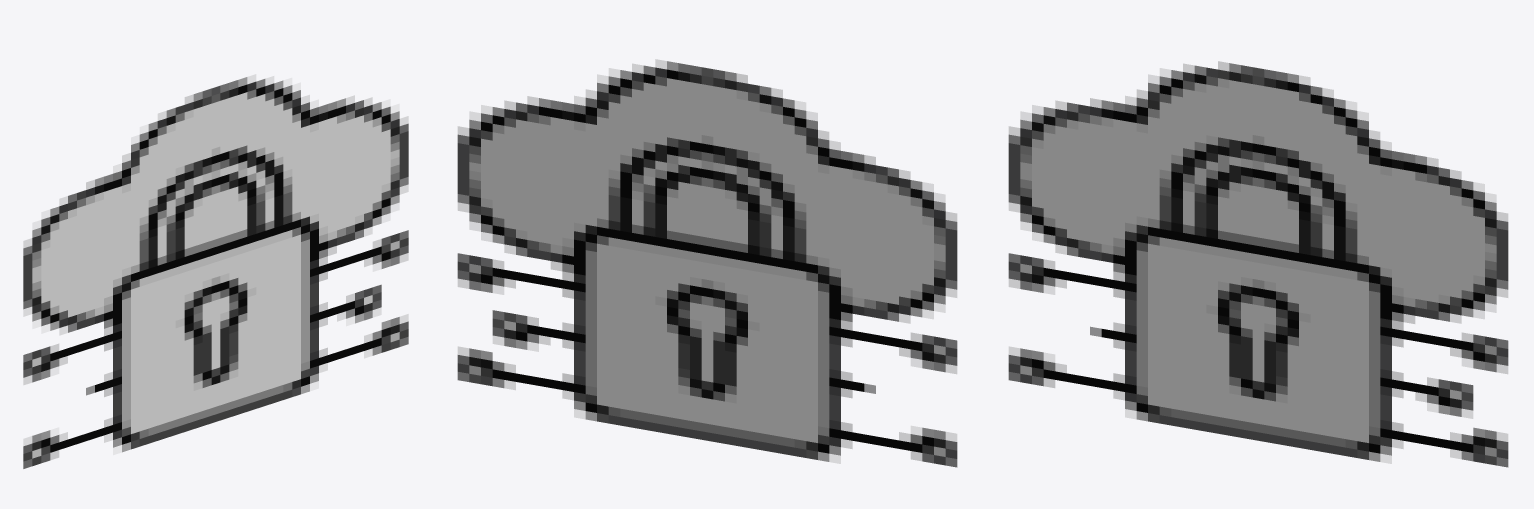
File: secops.glb
The picture shows the model from 3 angles, left to right: view 1: azimuth 30°, elevation 25°; view 2: azimuth 150°, elevation 25°; view 3: azimuth 330°, elevation 25°; orthographic projection. The views are drawn at different scales.
Visible parts, largest first — view 1: mesh_id35; view 2: mesh_id35; view 3: mesh_id35.
Part boxes in pixels (left/top/right/bottom): mesh_id35: left=23, top=74, right=408, bottom=468; mesh_id35: left=457, top=59, right=957, bottom=467; mesh_id35: left=1008, top=61, right=1508, bottom=467.
Bounding box in the file's own units: 0.1354 × 0.1038 × 0.0179.
Materials: 1 (1 with a texture image).
